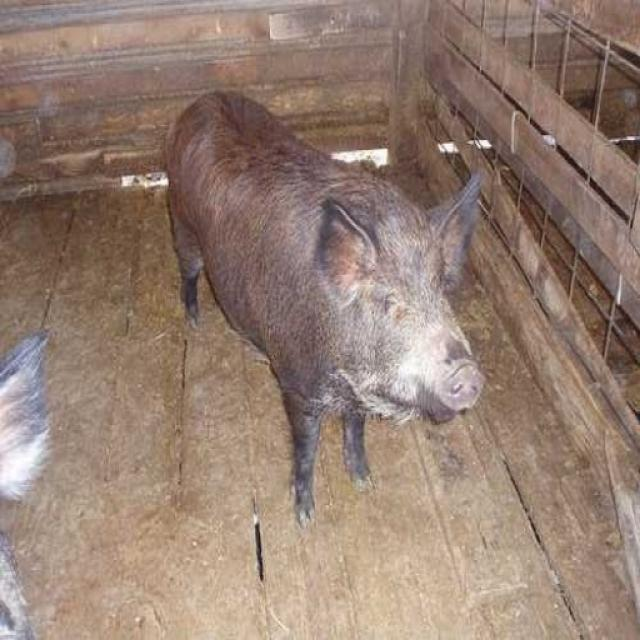pig: (150, 92, 518, 500)
